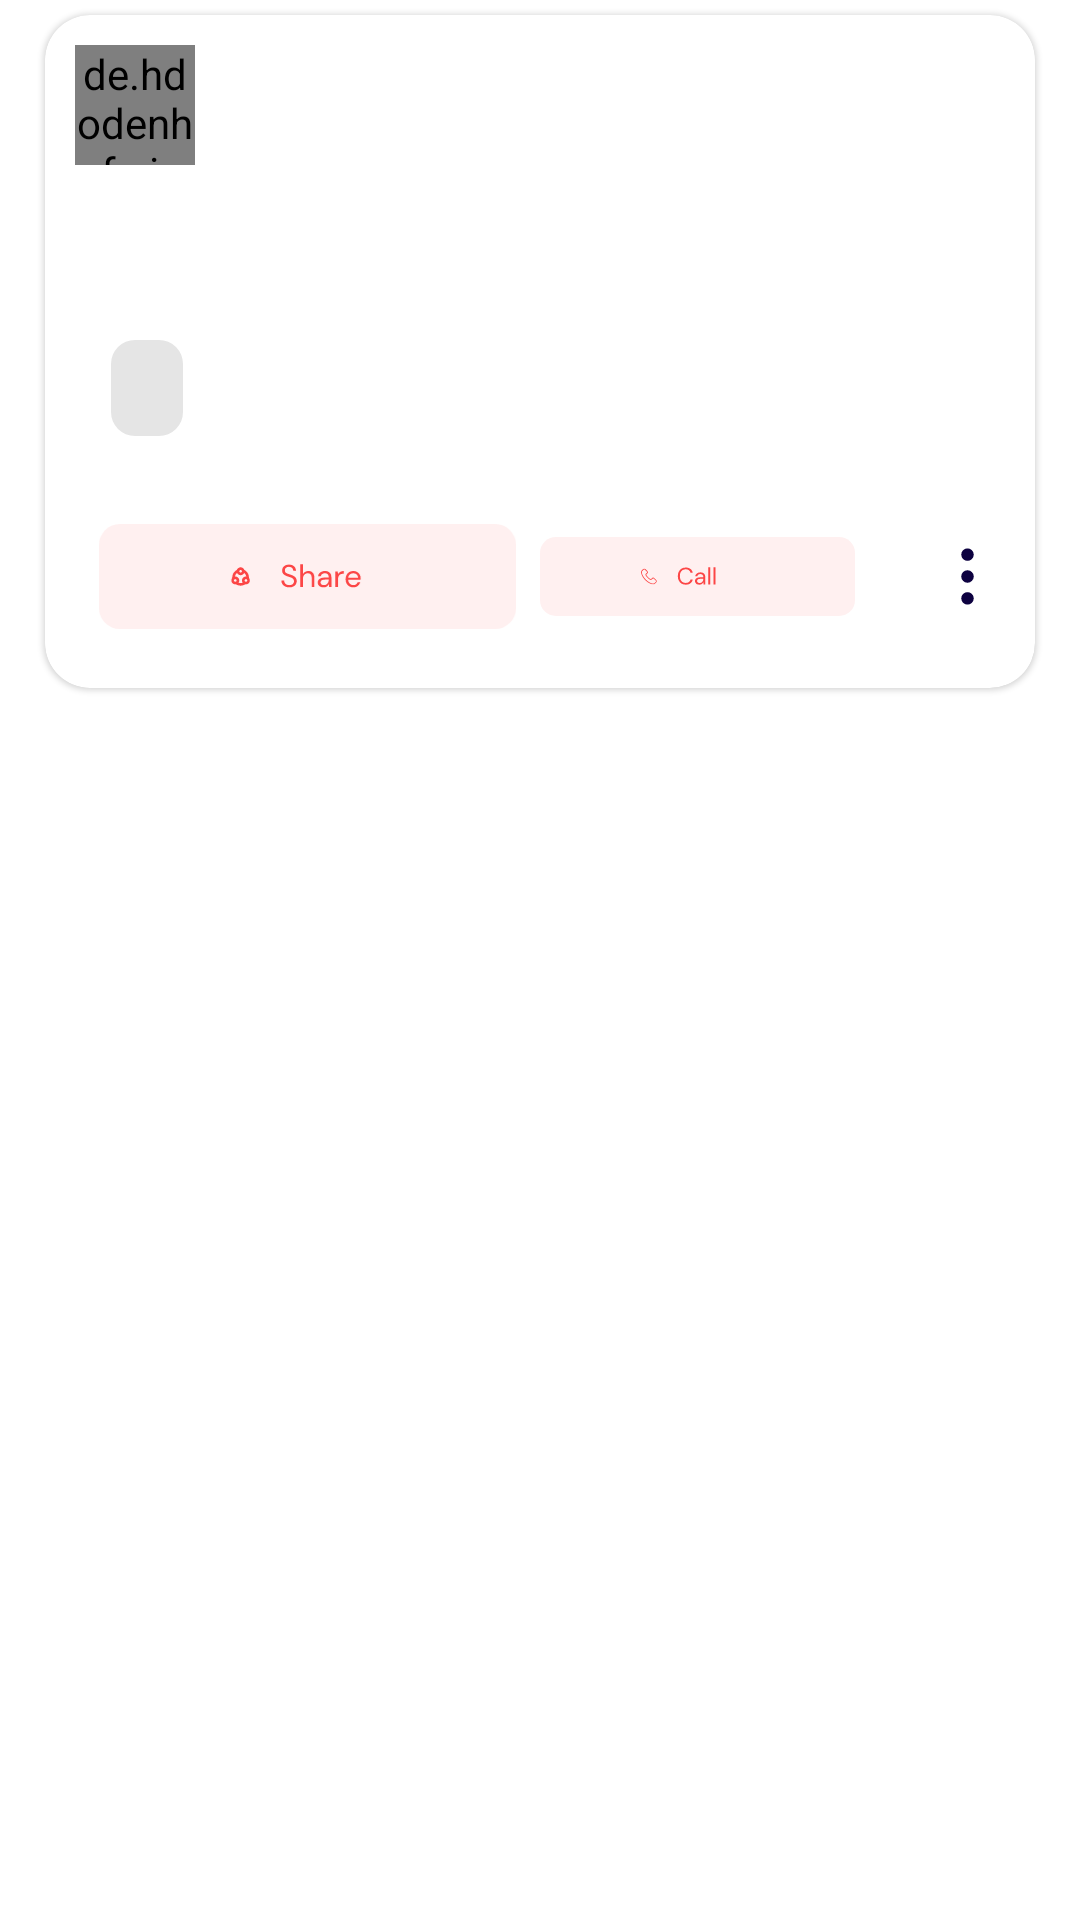

Where to tap for icons on this 1080w x 1920h app screen, as (x=x, y=y):
three dot: (x=967, y=576)
